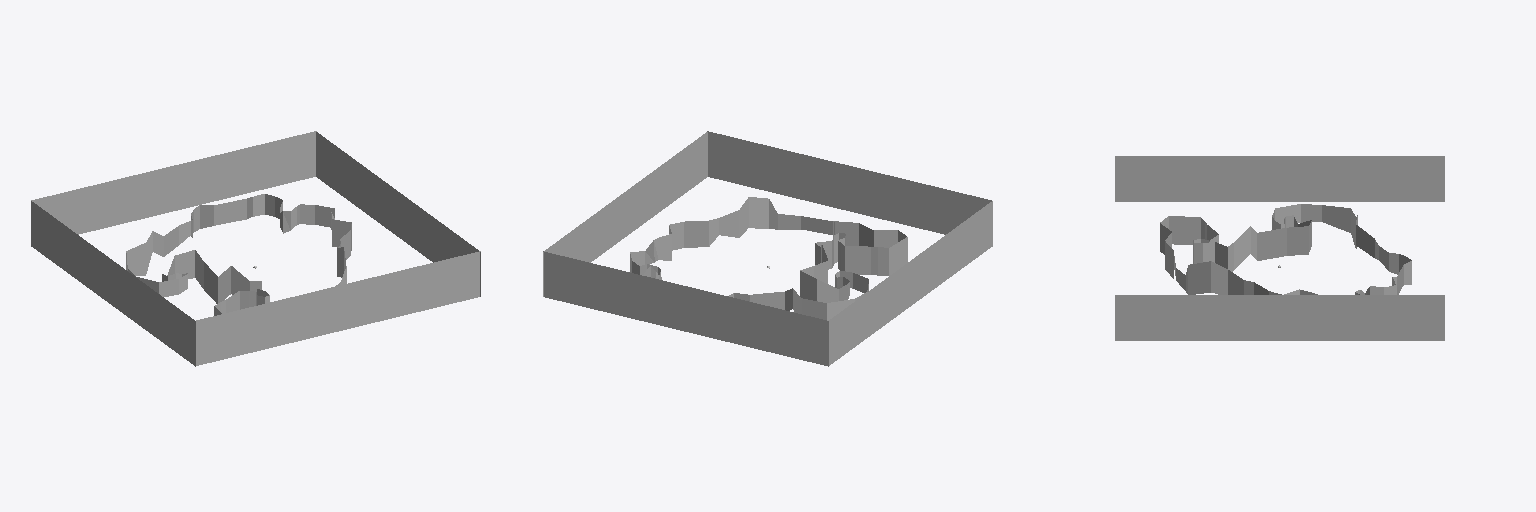
File: Stage2Wall.obj
3 views of the same model, side by side, from view 1: azimuth 30°, elevation 25°; view 2: azimuth 150°, elevation 25°; view 3: azimuth 270°, elevation 25° (orthographic).
Parts seen in each view (by area): view 1: 平面.003, 平面.002, 平面.004, 平面, 平面.001; view 2: 平面.002, 平面.004, 平面.003, 平面, 平面.001; view 3: 平面, 平面.001, 平面.004.
Boxes of the visible parts, x1,y1,x2,y2 form: 平面.003: [196, 251, 480, 365]; 平面.002: [31, 131, 316, 234]; 平面.004: [126, 194, 351, 315]; 平面: [31, 201, 195, 366]; 平面.001: [316, 132, 480, 296]; 平面.002: [543, 251, 828, 366]; 平面.004: [630, 197, 907, 320]; 平面.003: [707, 131, 991, 234]; 平面: [829, 201, 992, 365]; 平面.001: [543, 132, 707, 296]; 平面: [1115, 156, 1444, 201]; 平面.001: [1115, 295, 1444, 340]; 平面.004: [1160, 204, 1411, 294].
Size of the model in its own units: 241 by 48.48 by 241.